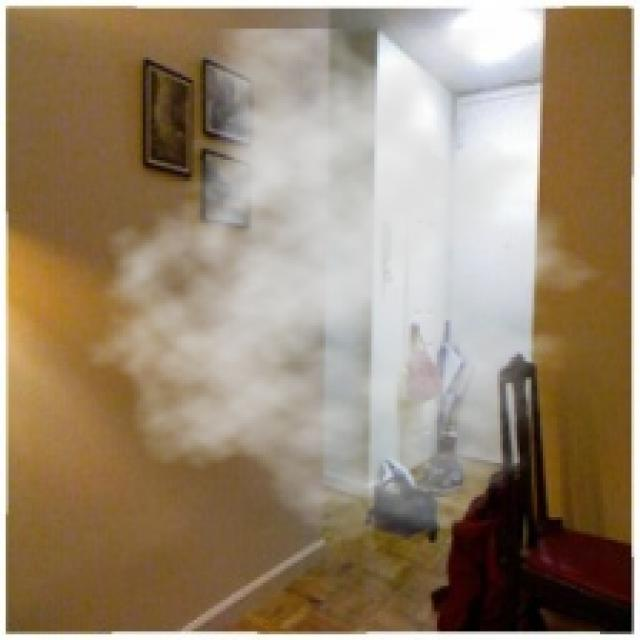smoke: (83, 28, 626, 543)
